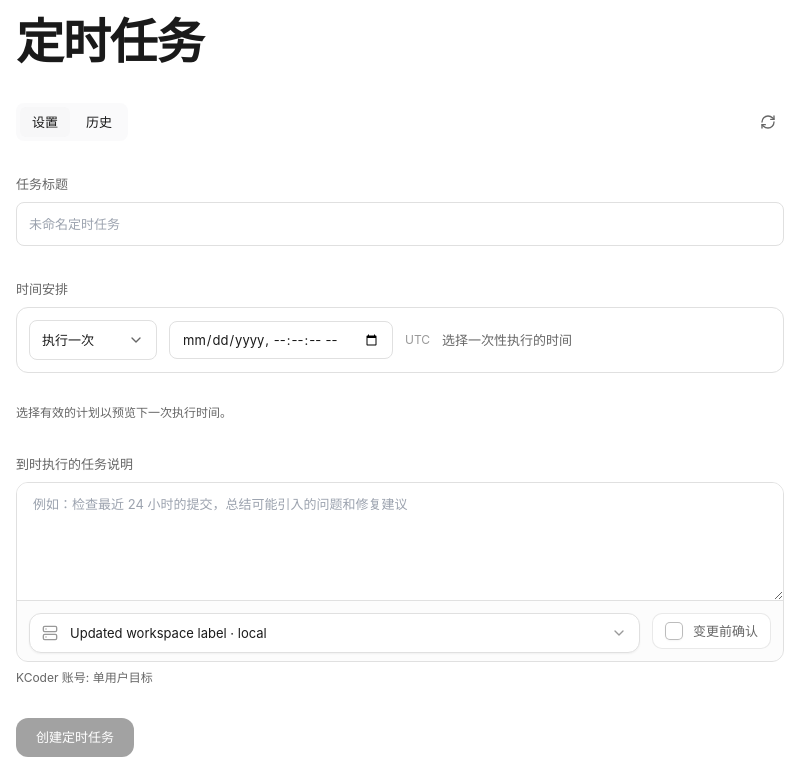
Scenario: a pending list remains valid when the same device/workspace metadata object is rebuilt
Click the tab with test id "automation-tab-history".
click(99, 122)  # box left=74, top=107, right=124, bottom=137
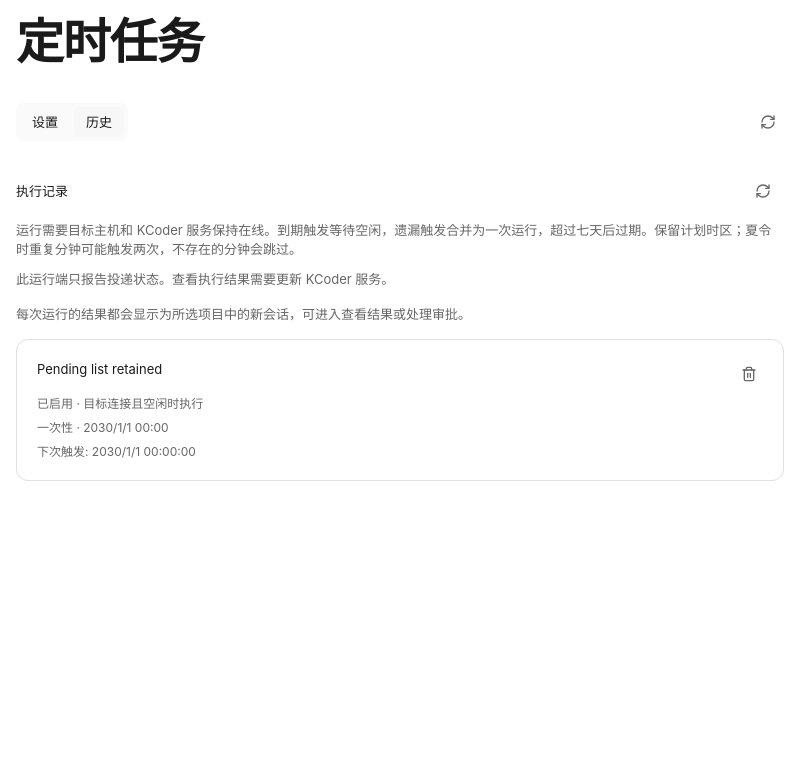
Now the element with test id "automation-job" shows "Pending list retained", box left=37, top=361, right=162, bottom=377
